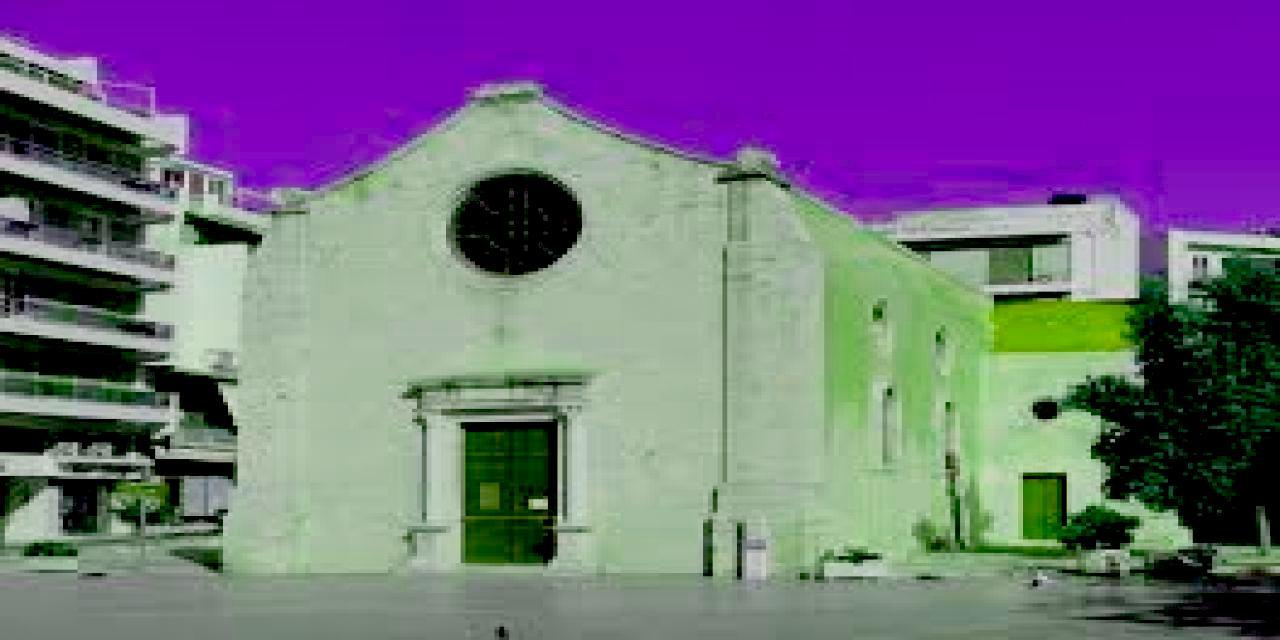Agia Aikaterini: (230, 82, 1065, 580)
